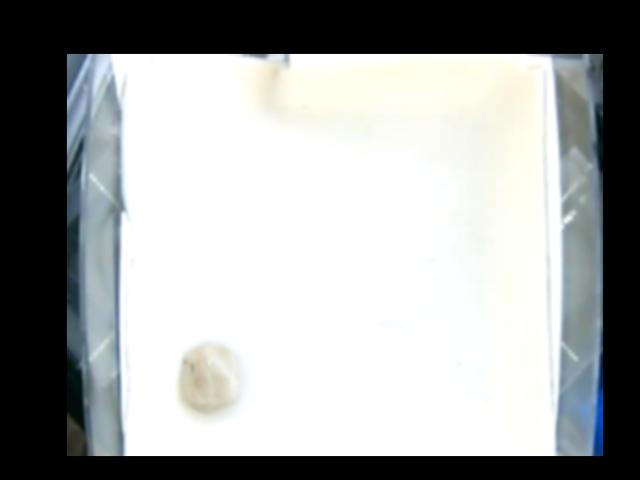Pebble: (180, 341, 241, 415)
